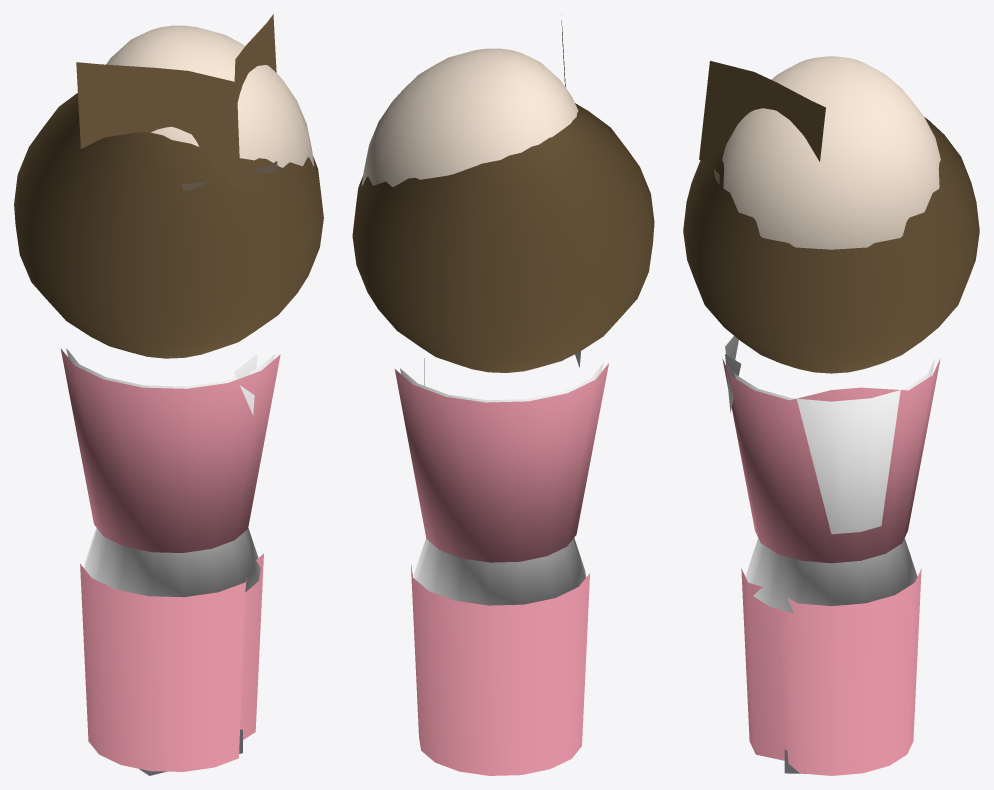
File: default-avatar.glb
The picture shows the model from 3 angles, left to right: view 1: azimuth 30°, elevation 25°; view 2: azimuth 150°, elevation 25°; view 3: azimuth 270°, elevation 25°; orthographic projection. The views are drawn at different scales.
Visible parts, largest first — view 1: Hair, Skirt, Blazer, Bangs, Head, Body; view 2: Hair, Skirt, Blazer, Head, Body; view 3: Hair, Head, Skirt, Blazer, Body, Bangs, Collar.
Boxes of the visible parts, <box> form: Hair: <box>14,93,323,358</box>; Skirt: <box>80,553,263,771</box>; Blazer: <box>60,348,280,552</box>; Bangs: <box>76,14,276,187</box>; Head: <box>106,25,314,167</box>; Body: <box>66,348,274,597</box>; Hair: <box>352,103,654,372</box>; Skirt: <box>411,565,589,775</box>; Blazer: <box>394,358,608,562</box>; Head: <box>362,48,578,186</box>; Body: <box>400,363,603,605</box>; Hair: <box>683,117,979,373</box>; Head: <box>722,56,940,249</box>; Skirt: <box>741,568,921,775</box>; Blazer: <box>722,358,940,563</box>; Body: <box>734,359,934,613</box>; Bangs: <box>699,61,825,161</box>; Collar: <box>725,336,741,412</box>.
Size of the model in its own units: 1.11 by 2.79 by 1.09.
